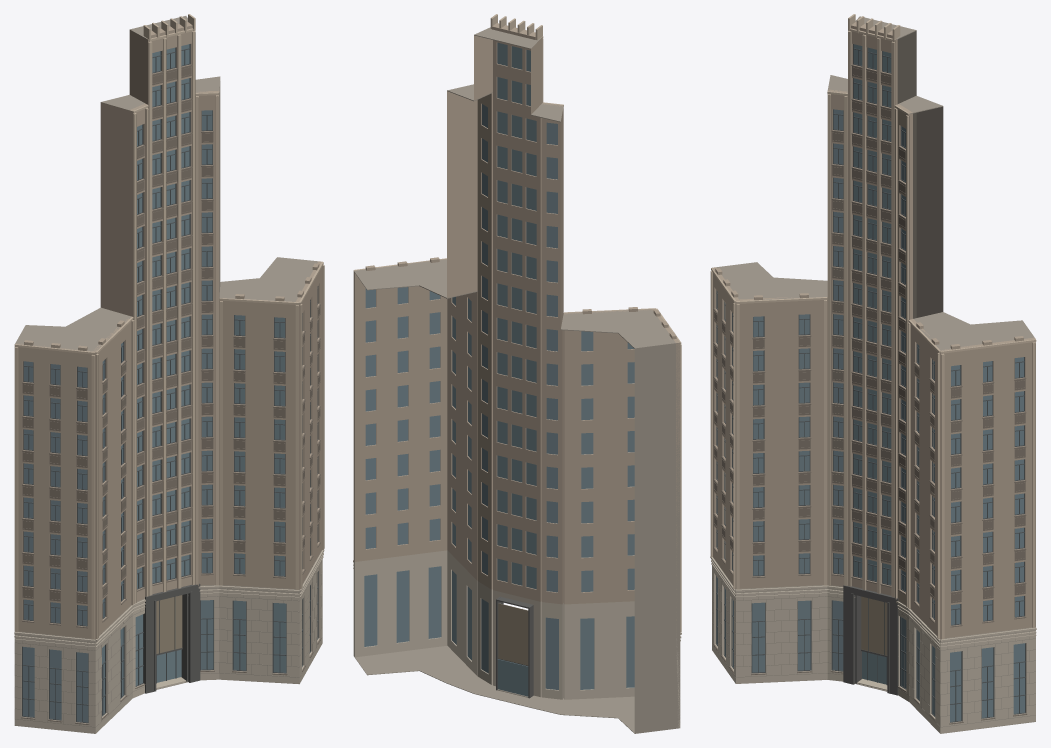
The model's file is huangpu-development-building-web.glb.
3 views of the same model, side by side, from view 1: azimuth 30°, elevation 25°; view 2: azimuth 150°, elevation 25°; view 3: azimuth 330°, elevation 25° (orthographic).
Parts seen in each view (by area): view 1: 建设大楼（福州路口凹入塔面）; view 2: 建设大楼（福州路口凹入塔面）; view 3: 建设大楼（福州路口凹入塔面）.
Boxes of the visible parts, bbox=[...] form: 建设大楼（福州路口凹入塔面）: bbox=[14, 14, 324, 733]; 建设大楼（福州路口凹入塔面）: bbox=[353, 14, 681, 733]; 建设大楼（福州路口凹入塔面）: bbox=[710, 14, 1036, 733].
Bounding box in the file's own units: 34.08 × 67.97 × 9.84.
